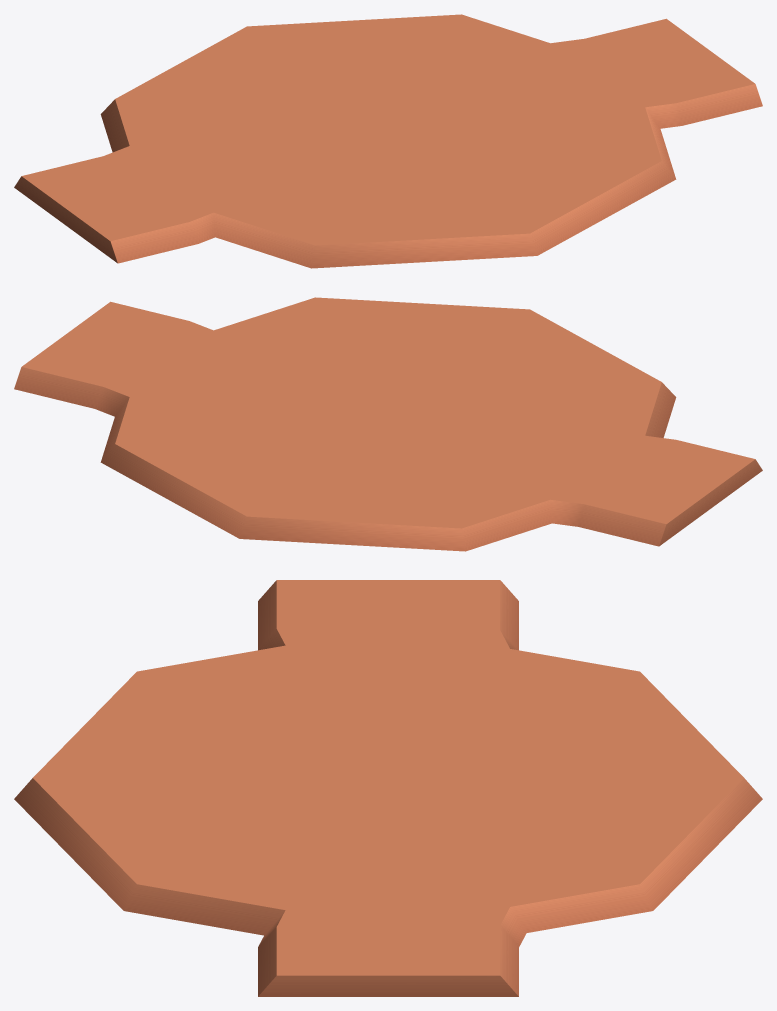
The model's file is path-square.gltf.
3 views of the same model, one above another, from view 1: azimuth 30°, elevation 25°; view 2: azimuth 150°, elevation 25°; view 3: azimuth 270°, elevation 25° (orthographic). The views are drawn at different scales.
Parts seen in each view (by area): view 1: path_square; view 2: path_square; view 3: path_square.
Boxes of the visible parts, x1,y1,x2,y2 form: path_square: (14, 14, 762, 268); path_square: (14, 297, 762, 551); path_square: (14, 580, 762, 996).
Bounding box in the file's own units: 1 × 0.025 × 0.8.
1 material, 1 textured.
